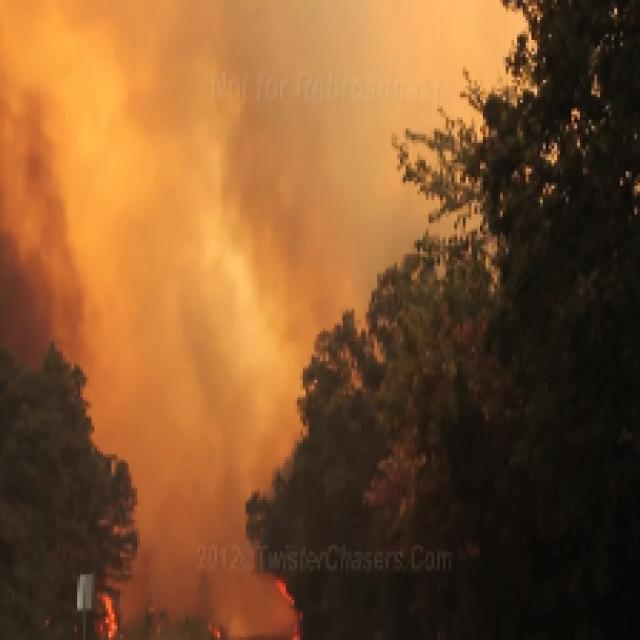Fire: (83, 503, 340, 640)
Smoke: (0, 0, 526, 529)
